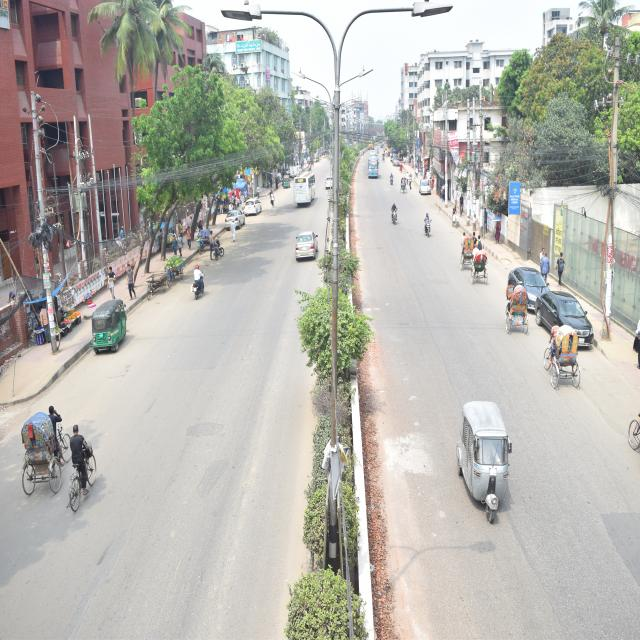bus: (282, 169, 322, 209), (363, 152, 388, 191)
car: (538, 278, 602, 351), (494, 248, 555, 312), (291, 224, 330, 286), (222, 195, 250, 241), (242, 186, 269, 224), (413, 170, 443, 204), (317, 157, 335, 198)
motorbike: (182, 241, 220, 319), (380, 190, 406, 242), (407, 203, 441, 240), (190, 232, 225, 262), (386, 171, 401, 197)
